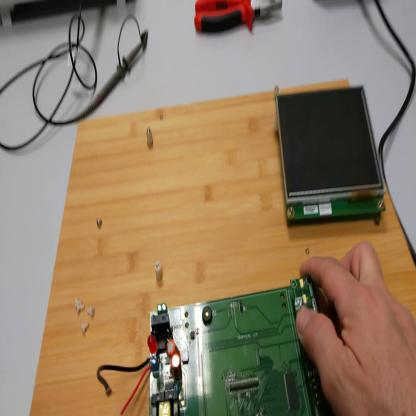hand: (297, 243, 416, 416)
low voltage board: (97, 273, 336, 414)
oscilloscope probe tip: (78, 44, 144, 122)
pliers: (194, 1, 285, 38)
working area: (30, 64, 416, 414)
